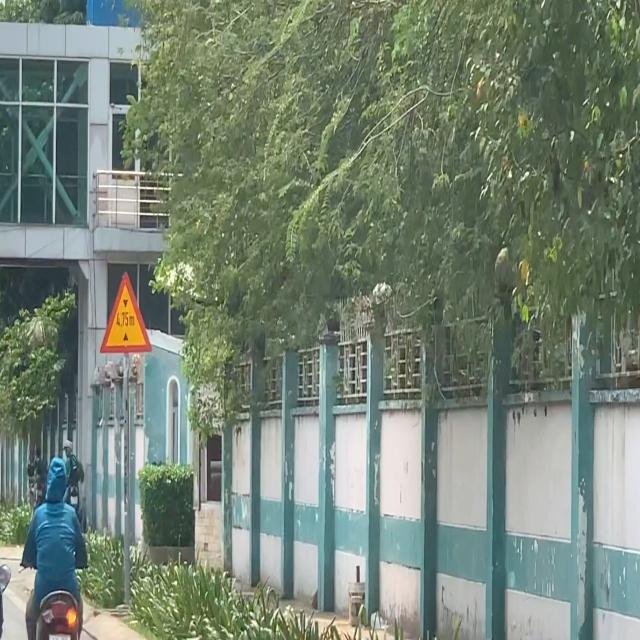Nguy hiem: (99, 270, 153, 354)
